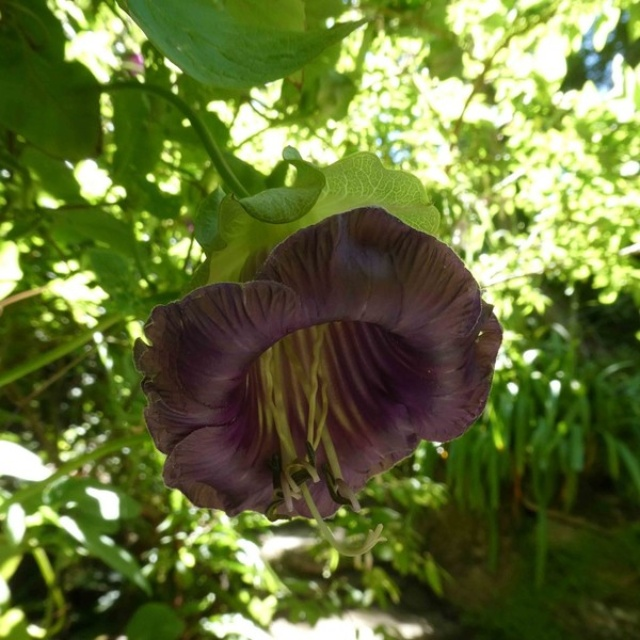obstacle: (71, 69, 465, 498)
